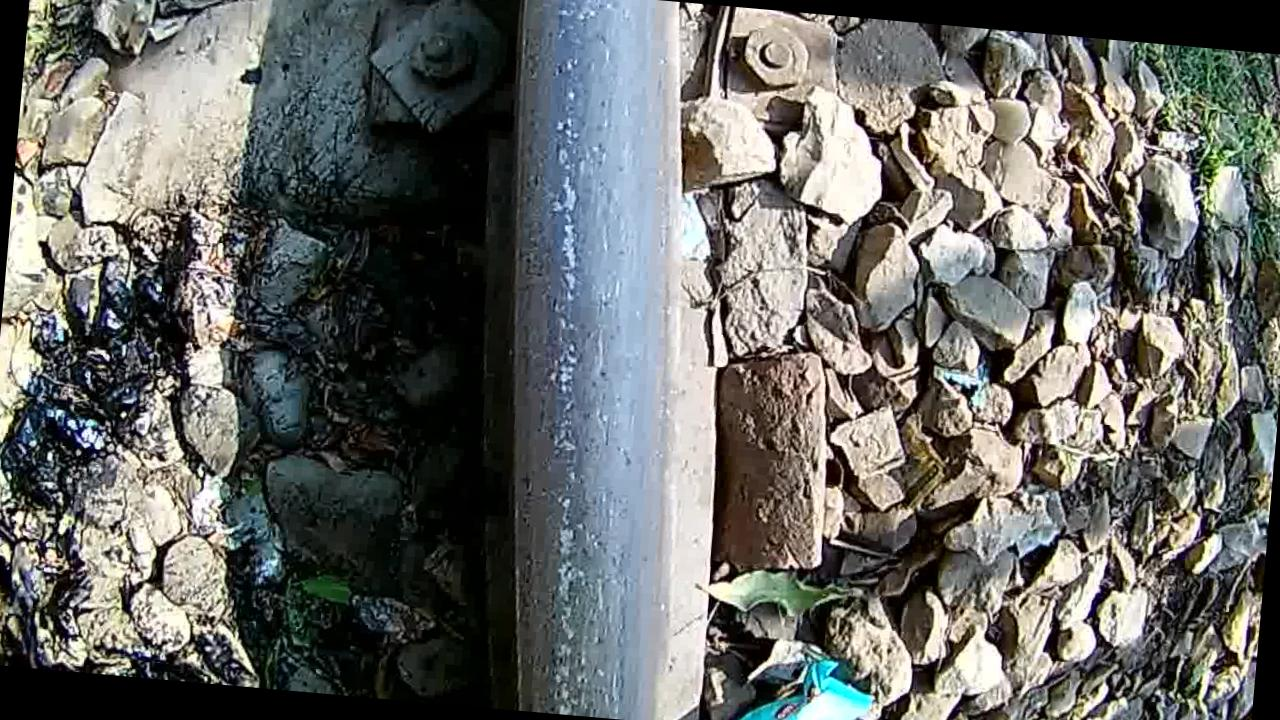clip_missing: (449, 0, 701, 720)
